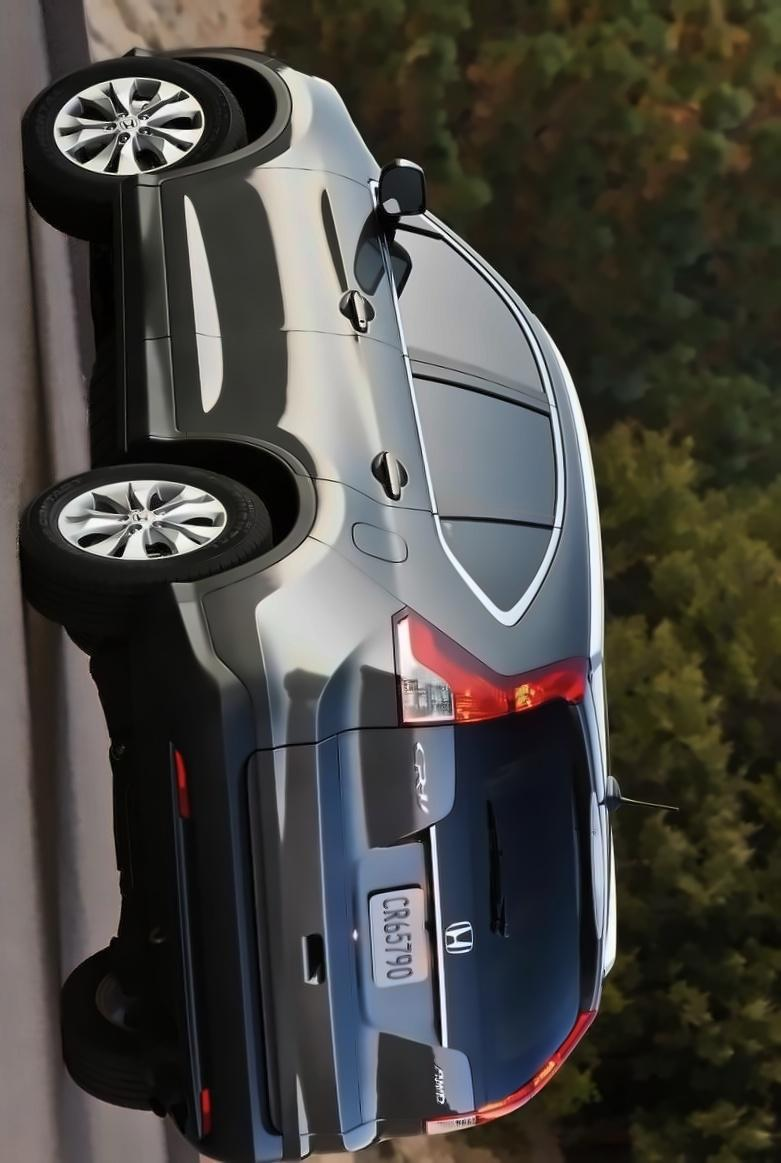Car hood: (230, 693, 612, 1141)
Fender - -F-L-: (129, 56, 391, 193)
Fender - -R-L-: (275, 472, 578, 680)
Front bumper: (118, 35, 273, 90)
Passenger-s door - -F-L-: (118, 163, 553, 353)
Passenger-s door - -R-L-: (115, 330, 603, 537)
Rear bumper: (80, 559, 373, 1163)
Rear light - -L-: (375, 598, 598, 733)
Rear light - -R-: (415, 985, 607, 1139)
Side bumper - -L-: (85, 163, 189, 476)
Side mirror - -L-: (360, 140, 439, 228)
